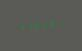four: (17, 22, 24, 32)
nine: (50, 19, 57, 29)
one: (58, 18, 65, 28)
seven: (25, 21, 32, 31)
two: (42, 19, 49, 30)
zero: (34, 20, 41, 30)
